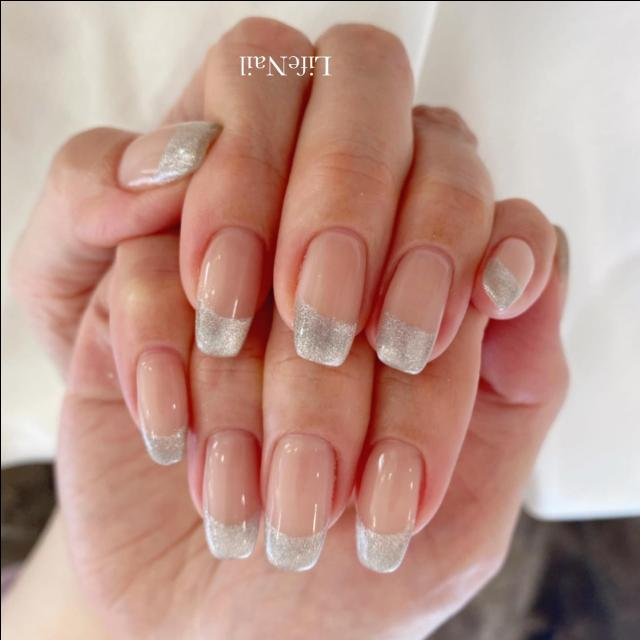Nail: (292, 228, 365, 365), (374, 246, 451, 373), (265, 431, 335, 570), (355, 439, 422, 571), (194, 226, 261, 356), (202, 429, 260, 558), (118, 121, 219, 186), (134, 348, 187, 463), (480, 237, 534, 310)
